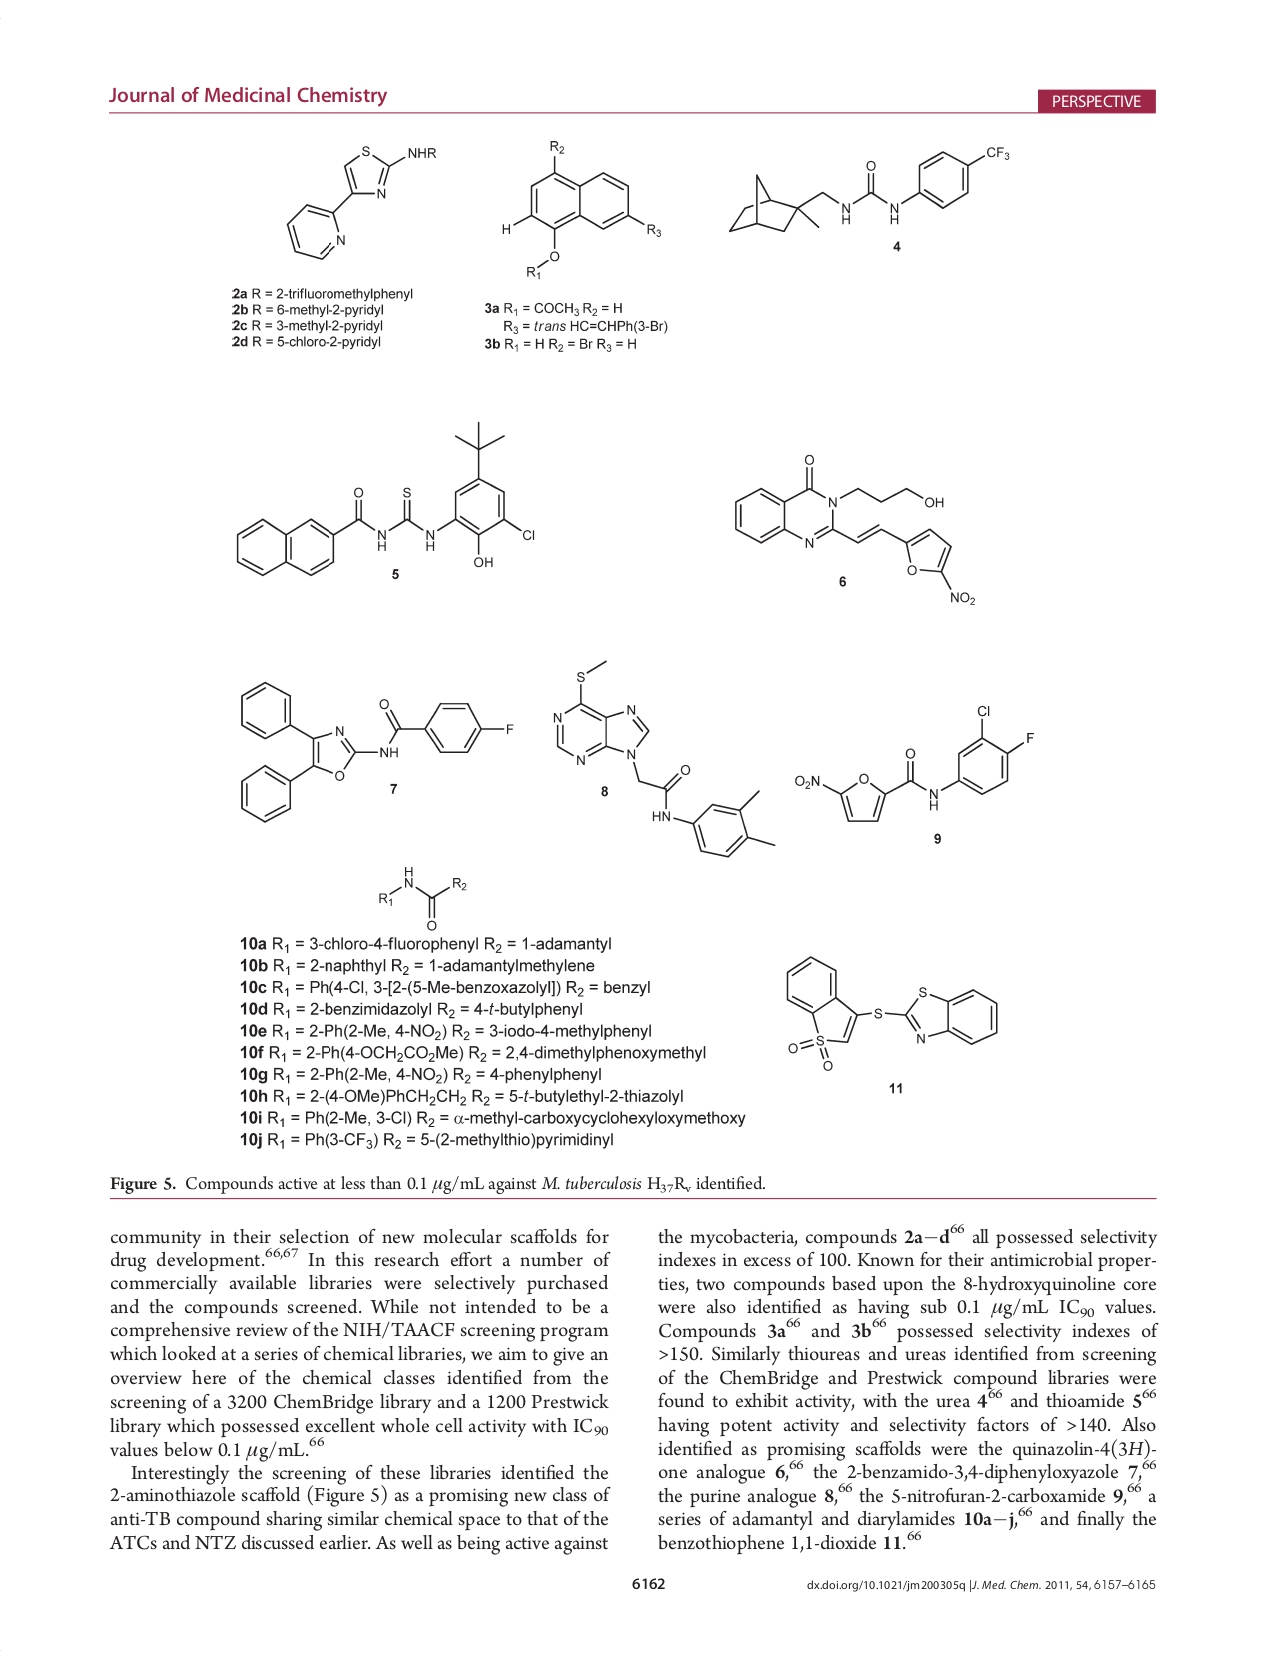exist_molecular: (234, 418, 536, 581), (551, 657, 777, 862), (233, 676, 513, 825), (731, 452, 979, 606), (793, 702, 1037, 827), (781, 954, 1001, 1075), (729, 145, 1011, 233), (496, 137, 664, 282), (281, 138, 439, 261), (372, 863, 472, 934)
